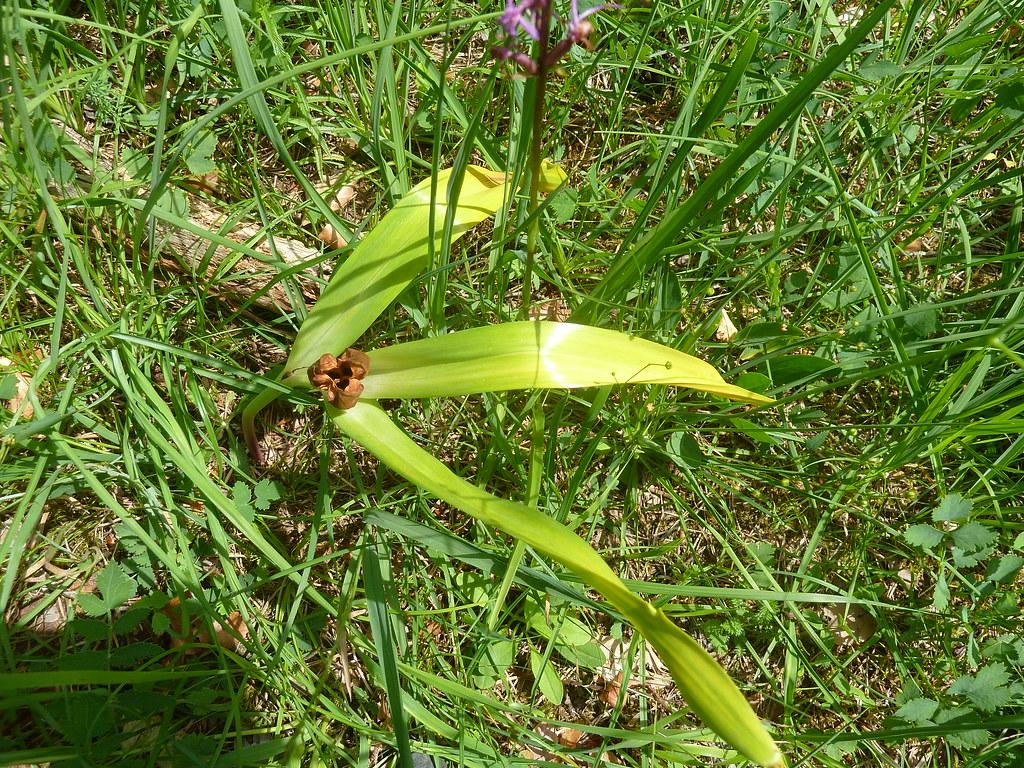Colchicum autumnale L: (265, 140, 833, 765)
